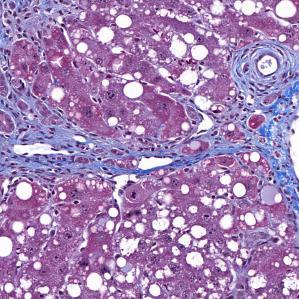fibrosis: (227, 49, 299, 152), (0, 112, 107, 180), (0, 0, 65, 38)
